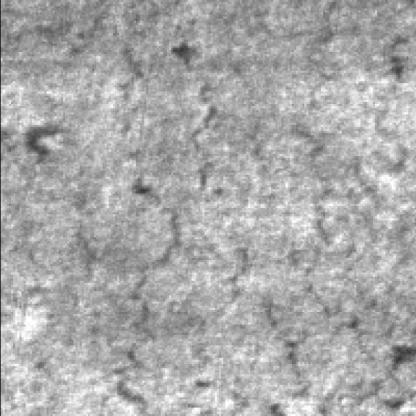crazing: (104, 41, 249, 416), (169, 85, 318, 416), (299, 14, 416, 403)
